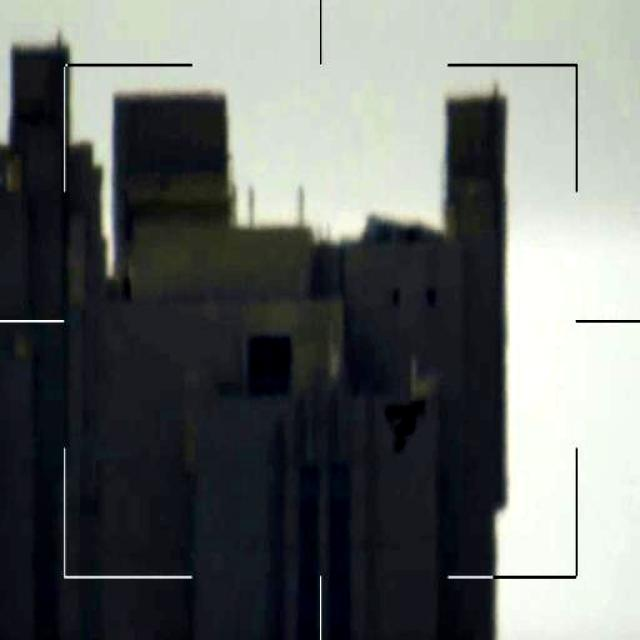bird: (382, 392, 440, 456)
